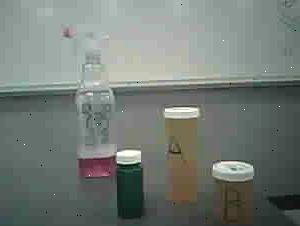Bottle A: (160, 98, 202, 212)
Bottle B: (205, 152, 260, 226)
Bottle C: (114, 148, 145, 220)
hazard: (59, 19, 121, 180)
